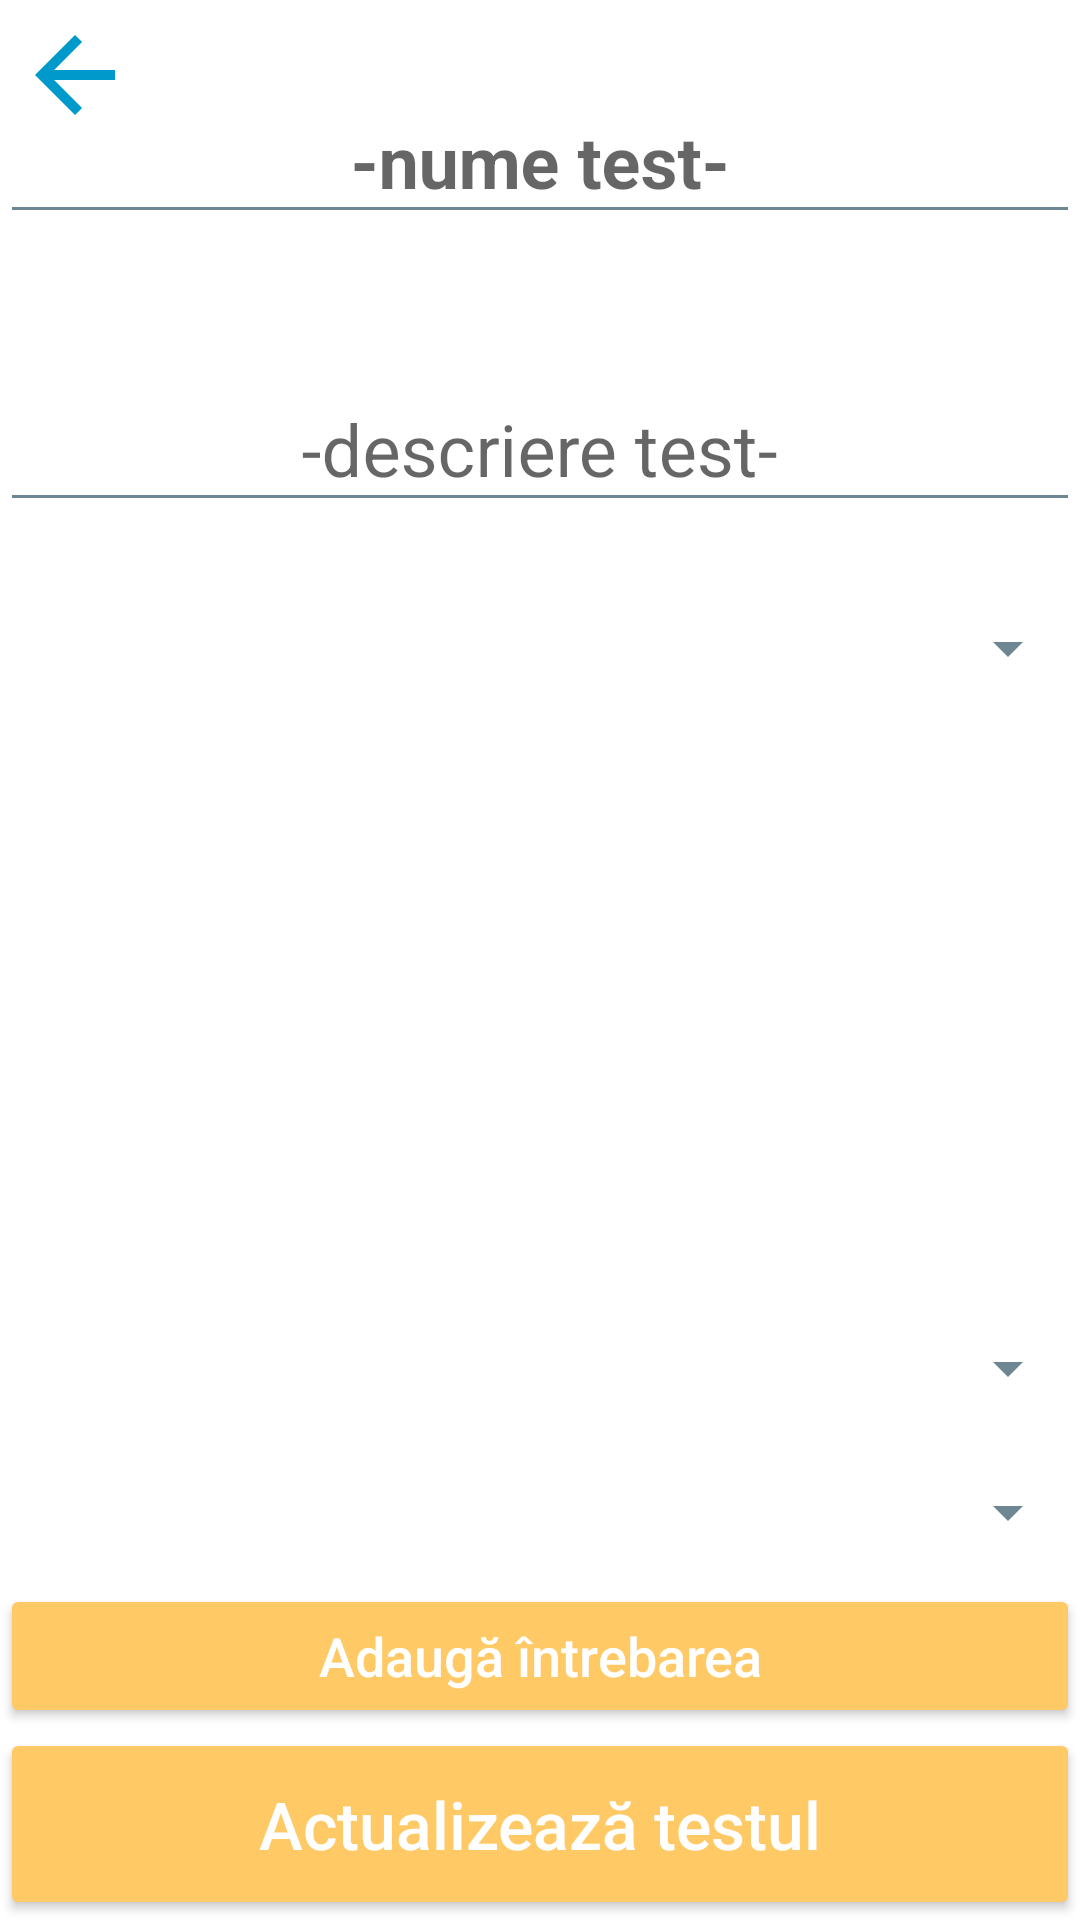

Where to tap for icons on this 1080*1920 app screen, as [x,y]:
inapoi: [75,75]
